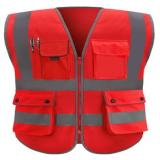Vest: (2, 5, 156, 155)
